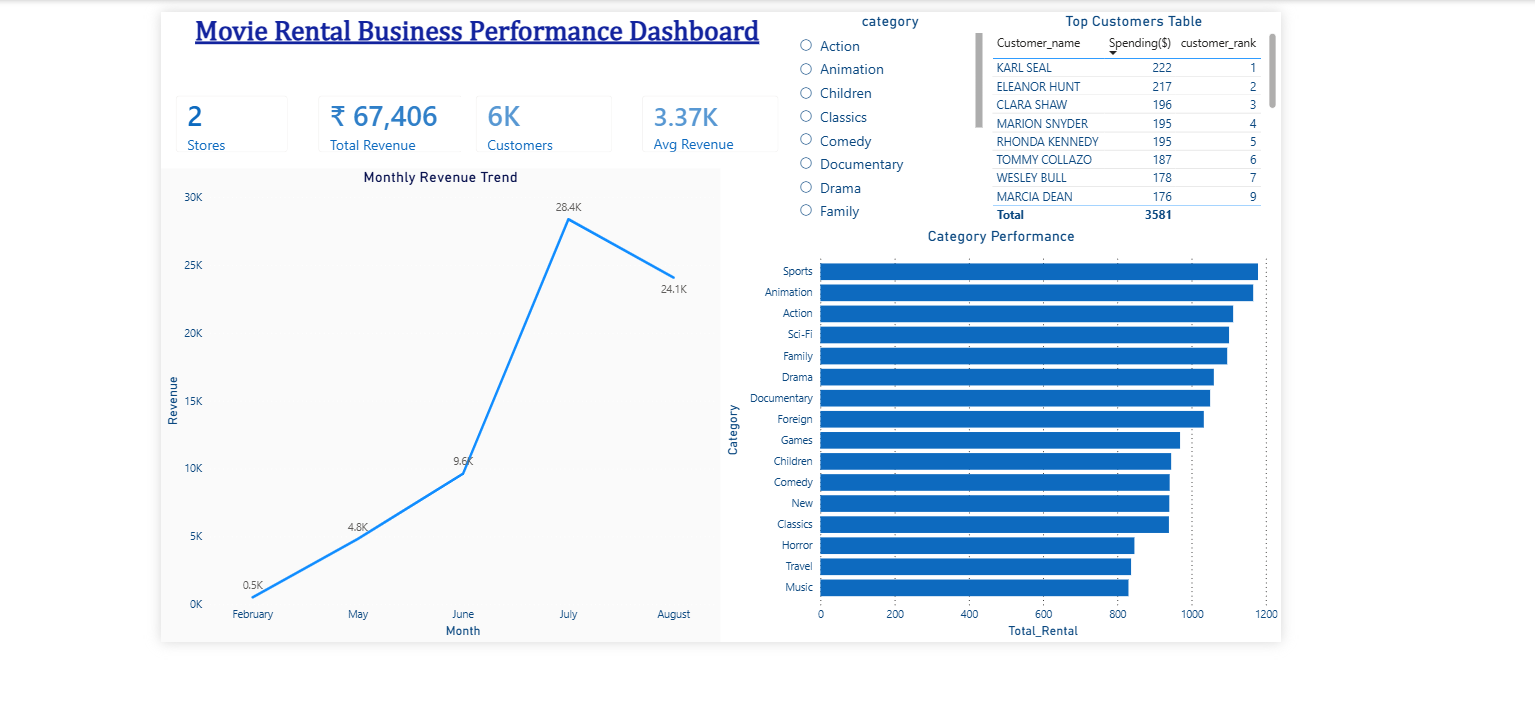

What the dashboard file says about the page in this screenshot:
{"tool":"powerbi","page":{"name":"Page 1","canvas":[1280,720],"ordinal":0},"visuals":[{"type":"cardVisual","fields":{"Data":["store_revenue.Revenue Card"]},"box":[162.2,78.7,199.7,99.3],"z":0},{"type":"cardVisual","fields":{"Data":["Count(store_revenue.store_id)"]},"box":[0,78.7,162.2,99.3],"z":1000},{"type":"lineChart","title":"Monthly Revenue Trend","fields":{"Y":["Sum(monthly_revenue.revenue)"],"Category":["monthly_revenue.month.Variation.Date Hierarchy.Month"]},"box":[0,177.9,639.1,542.3],"z":2000},{"type":"clusteredBarChart","title":"Category Performance","fields":{"Category":["category_performance.category"],"Y":["Sum(category_performance.total_rental)"]},"box":[639.5,245.6,640.8,474.8],"z":3000},{"type":"tableEx","title":"Top Customers Table","fields":{"Values":["top_20_customers.customer_name","Sum(top_20_customers.Spending($))","top_20_customers.customer_rank"]},"box":[944.2,0,335.3,245.7],"z":4000},{"type":"listSlicer","fields":{"Values":["category_performance.category"]},"box":[722.7,0,221.5,245.7],"z":5000},{"type":"textbox","box":[0,0,722.7,78.7],"z":6000},{"type":"cardVisual","fields":{"Data":["Sum(top_20_customers.customer_id)"]},"box":[342.6,78.7,190,99.3],"z":7000},{"type":"cardVisual","fields":{"Data":["category_performance.Avg Revenue"]},"box":[532.6,78.7,190,99.3],"z":7001}]}

Visuals, with their boxes on the page's 1280x720 design canvas (x1, y1, x2, y2). These are canvas units, not pixel positions in the 1535x725 screenshot, which may show the page scaled, cropped or inside an application window:
cardVisual - store_revenue.Revenue Card: (162, 79, 362, 178)
cardVisual - Count(store_revenue.store_id): (0, 79, 162, 178)
"Monthly Revenue Trend" lineChart: (0, 178, 639, 720)
"Category Performance" clusteredBarChart: (640, 246, 1280, 720)
"Top Customers Table" tableEx: (944, 0, 1280, 246)
listSlicer - category_performance.category: (723, 0, 944, 246)
textbox: (0, 0, 723, 79)
cardVisual - Sum(top_20_customers.customer_id): (343, 79, 533, 178)
cardVisual - category_performance.Avg Revenue: (533, 79, 723, 178)
